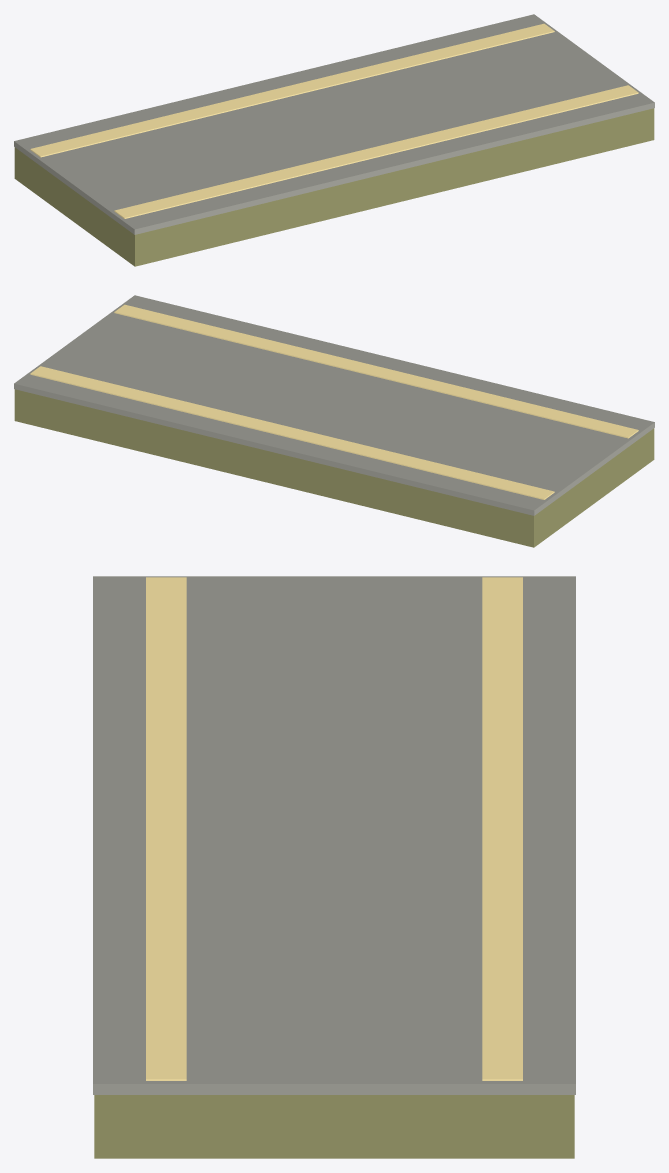
Rendered from SM_KitAnden_v5_LOD1.fbx.
3 views of the same model, one above another, from view 1: azimuth 30°, elevation 25°; view 2: azimuth 150°, elevation 25°; view 3: azimuth 270°, elevation 25° (orthographic). The views are drawn at different scales.
Parts seen in each view (by area): view 1: SM_bloques.kit_anden_v5_LOD1; view 2: SM_bloques.kit_anden_v5_LOD1; view 3: SM_bloques.kit_anden_v5_LOD1.
Part boxes in pixels (x1,y1,x2,y2): SM_bloques.kit_anden_v5_LOD1: [14, 14, 654, 266]; SM_bloques.kit_anden_v5_LOD1: [14, 295, 654, 547]; SM_bloques.kit_anden_v5_LOD1: [93, 576, 575, 1158].
Bounding box in the file's own units: 10 × 0.71 × 4.02.
